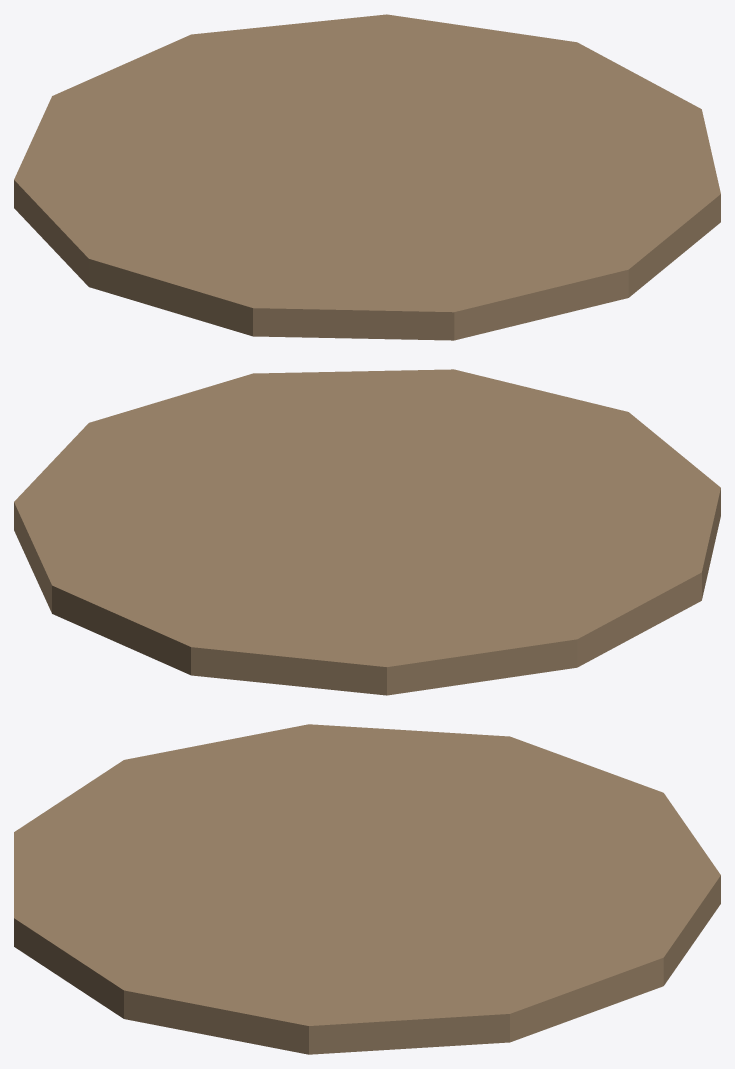
Rendered from fixture_dig.glb.
The picture shows the model from 3 angles, top to bottom: view 1: azimuth 30°, elevation 25°; view 2: azimuth 150°, elevation 25°; view 3: azimuth 270°, elevation 25°; orthographic projection.
Visible parts, largest first — view 1: Action setting; view 2: Action setting; view 3: Action setting.
Boxes of the visible parts, left/top/right/bottom form: Action setting: left=14, top=14, right=720, bottom=340; Action setting: left=14, top=369, right=720, bottom=695; Action setting: left=14, top=724, right=720, bottom=1054.
Size of the model in its own units: 0.4751 by 0.021 by 0.4703.
